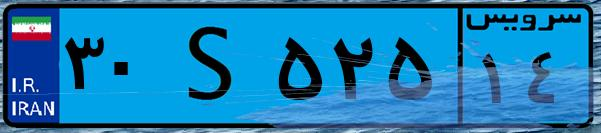0: (110, 28, 158, 98)
1: (475, 38, 525, 113)
2: (330, 28, 385, 110)
3: (57, 26, 110, 100)
4: (525, 38, 570, 115)
5: (270, 28, 330, 110), (385, 28, 445, 110)
S: (158, 12, 270, 120)
